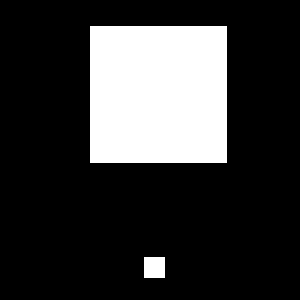circle: (90, 26, 227, 163), (144, 257, 165, 278)
